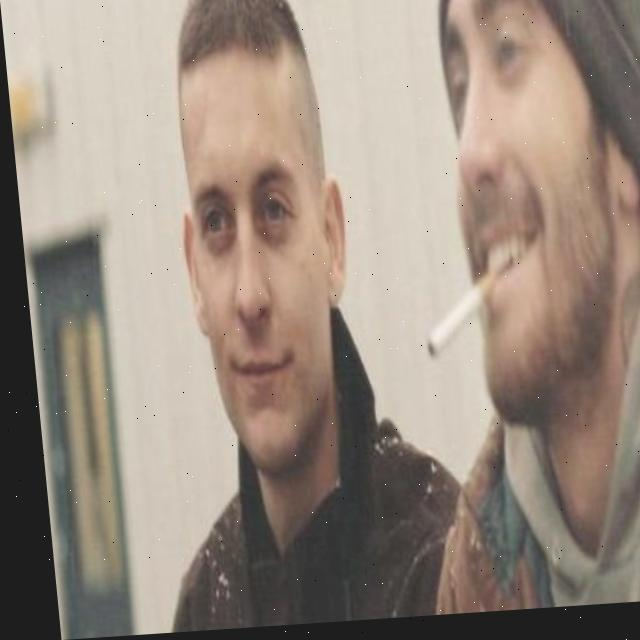cigarette: (412, 269, 505, 362)
